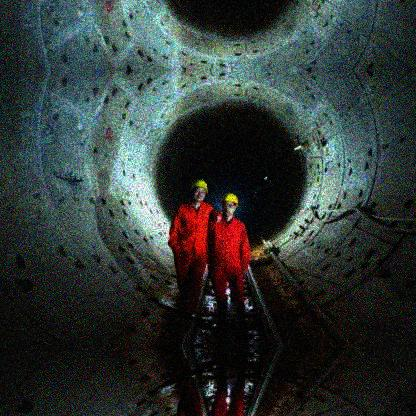helmet: (220, 192, 239, 219), (191, 179, 209, 202)
